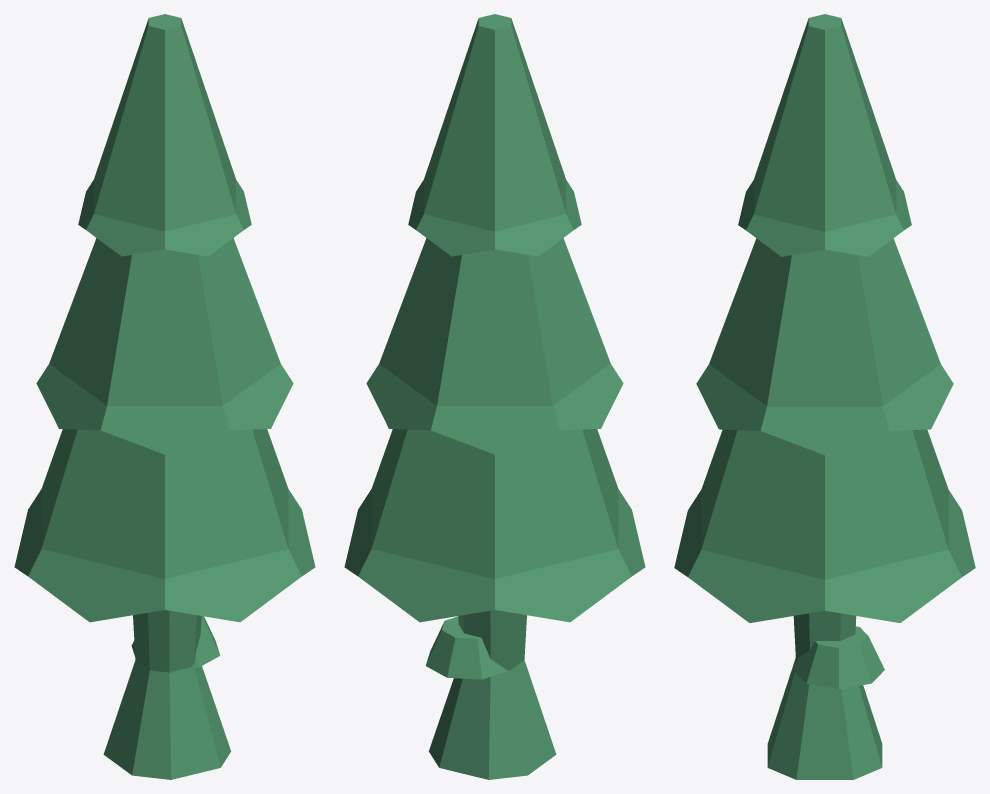
The model's file is tree.obj.
3 views of the same model, side by side, from view 1: azimuth 30°, elevation 25°; view 2: azimuth 150°, elevation 25°; view 3: azimuth 270°, elevation 25° (orthographic).
Bounding box in the file's own units: 0.5529 × 1.41 × 0.5262.
